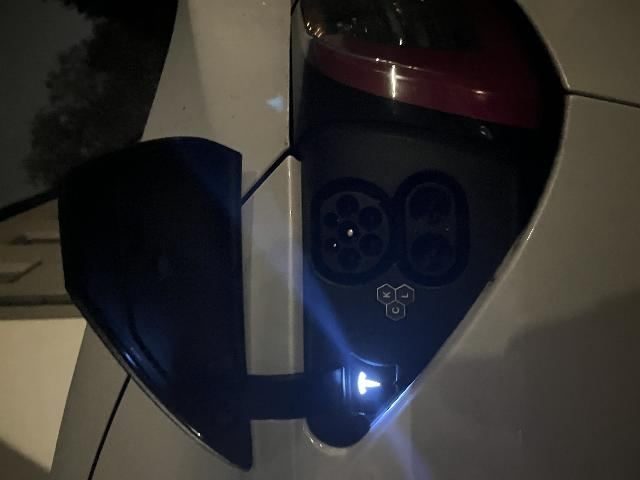inlet: (206, 320, 289, 389)
inlet-above-left: (226, 324, 242, 339)
inlet-above-right: (253, 323, 268, 339)
inlet-below-left: (223, 358, 246, 383)
inlet-below-right: (249, 357, 274, 382)
inlet-circle: (235, 338, 260, 359)
inlet-circle-left: (210, 338, 233, 361)
inlet-circle-right: (261, 336, 286, 359)
inlet-minus: (254, 409, 293, 450)
inlet-plus: (209, 411, 247, 451)
